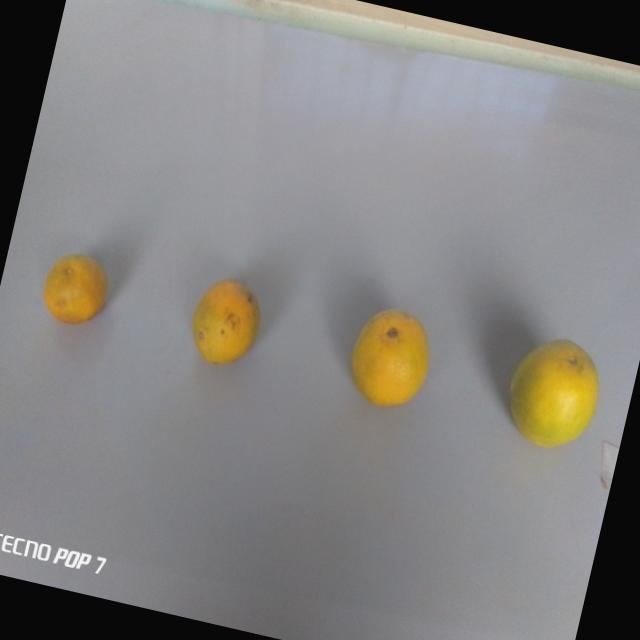agrume: (490, 325, 614, 460), (337, 295, 445, 420), (179, 267, 269, 377), (32, 239, 120, 338)
